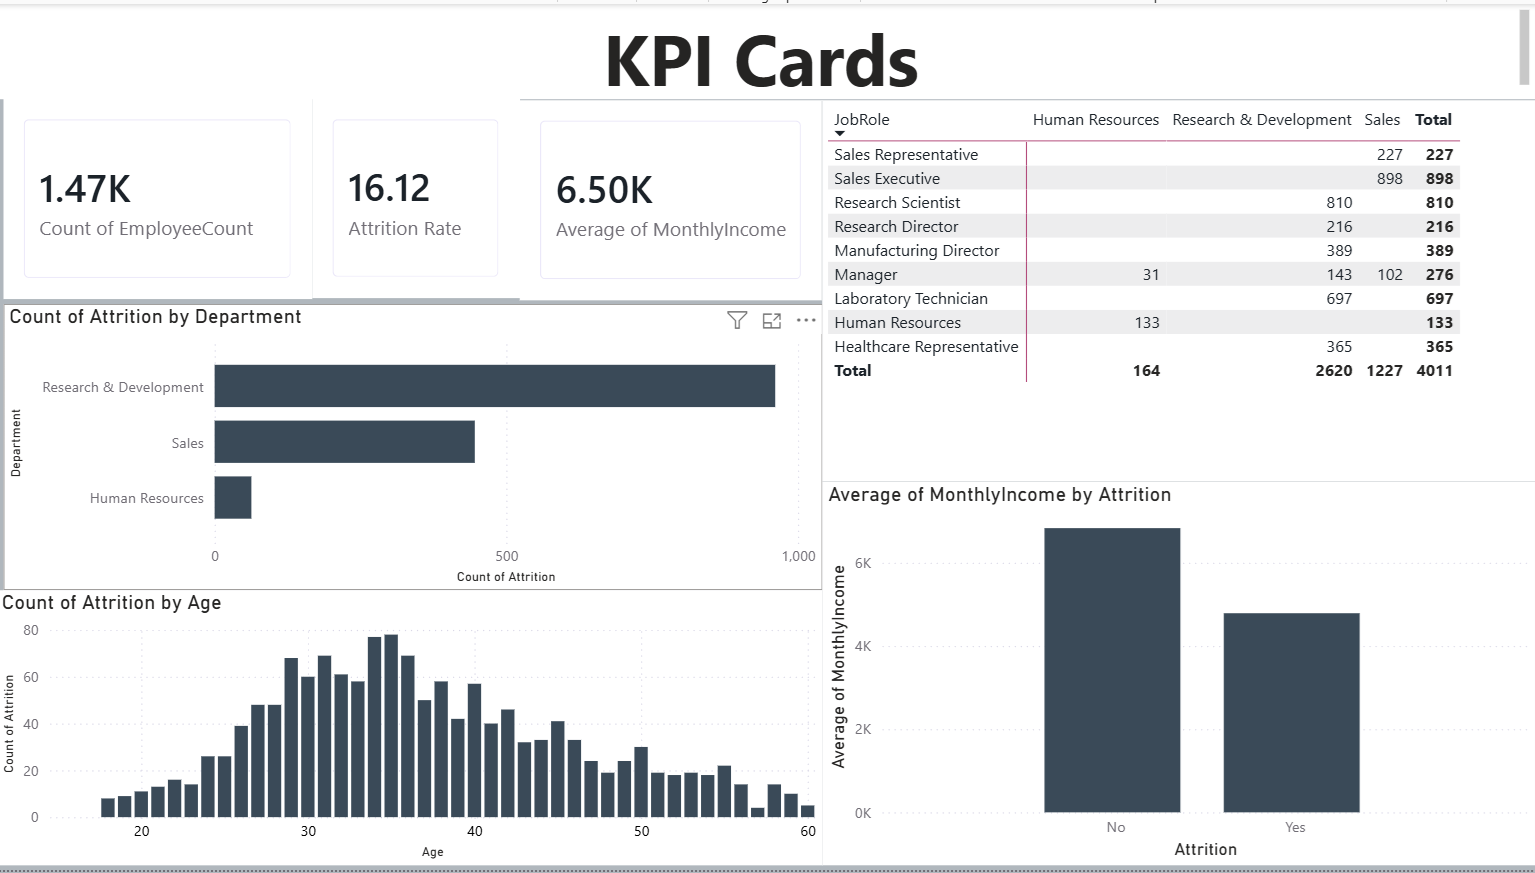

What the dashboard file says about the page in this screenshot:
{"tool":"powerbi","page":{"name":"Page 1","canvas":[1280,720],"ordinal":0},"visuals":[{"type":"textbox","box":[0,0,1279.8,79.6],"z":0},{"type":"cardVisual","fields":{"Data":["CountNonNull(WA_Fn-UseC_-HR-Employee-Attrition.EmployeeCount)"]},"box":[6.2,79,256.8,166.3],"z":1000},{"type":"cardVisual","fields":{"Data":["HR_Data.Attrition Rate"]},"box":[263,79,172.6,165.3],"z":2000},{"type":"cardVisual","fields":{"Data":["Avg(HR_Data.MonthlyIncome)"]},"box":[435.6,80.1,251.6,166.3],"z":3000},{"type":"clusteredBarChart","fields":{"Category":["HR_Data.Department"],"Y":["CountNonNull(HR_Data.Attrition)"]},"box":[6.2,249.5,681,238.1],"z":4000},{"type":"clusteredColumnChart","fields":{"Category":["HR_Data.Age"],"Y":["CountNonNull(HR_Data.Attrition)"]},"box":[0,487.6,687.2,228.7],"z":5000},{"type":"pivotTable","fields":{"Rows":["HR_Data.JobRole"],"Values":["Sum(HR_Data.JobSatisfaction)"],"Columns":["HR_Data.Department"]},"box":[687.2,80.1,592.6,317.1],"z":6000},{"type":"clusteredColumnChart","fields":{"Category":["HR_Data.Attrition"],"Y":["Avg(HR_Data.MonthlyIncome)"]},"box":[687.2,397.1,592.6,319.2],"z":6001}]}

Visuals, with their boxes in screenshot pixels (x1, y1, x2, y2), scaled from the page's 1280x720 canvas onto the 1535x873 screenshot:
textbox: <box>0,0,1534,97</box>
cardVisual - CountNonNull(WA_Fn-UseC_-HR-Employee-Attrition.EmployeeCount): <box>7,96,315,297</box>
cardVisual - HR_Data.Attrition Rate: <box>315,96,522,296</box>
cardVisual - Avg(HR_Data.MonthlyIncome): <box>522,97,824,299</box>
clusteredBarChart - HR_Data.Department x CountNonNull(HR_Data.Attrition): <box>7,303,824,591</box>
clusteredColumnChart - HR_Data.Age x CountNonNull(HR_Data.Attrition): <box>0,591,824,869</box>
pivotTable - HR_Data.JobRole x Sum(HR_Data.JobSatisfaction): <box>824,97,1534,482</box>
clusteredColumnChart - HR_Data.Attrition x Avg(HR_Data.MonthlyIncome): <box>824,481,1534,869</box>
